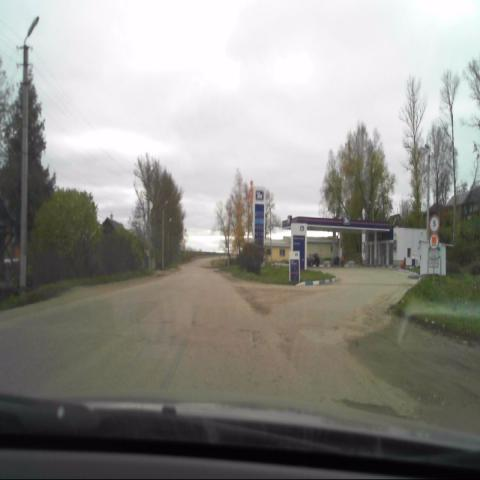3_24: (429, 213, 439, 233)
3_32: (429, 233, 439, 250)
